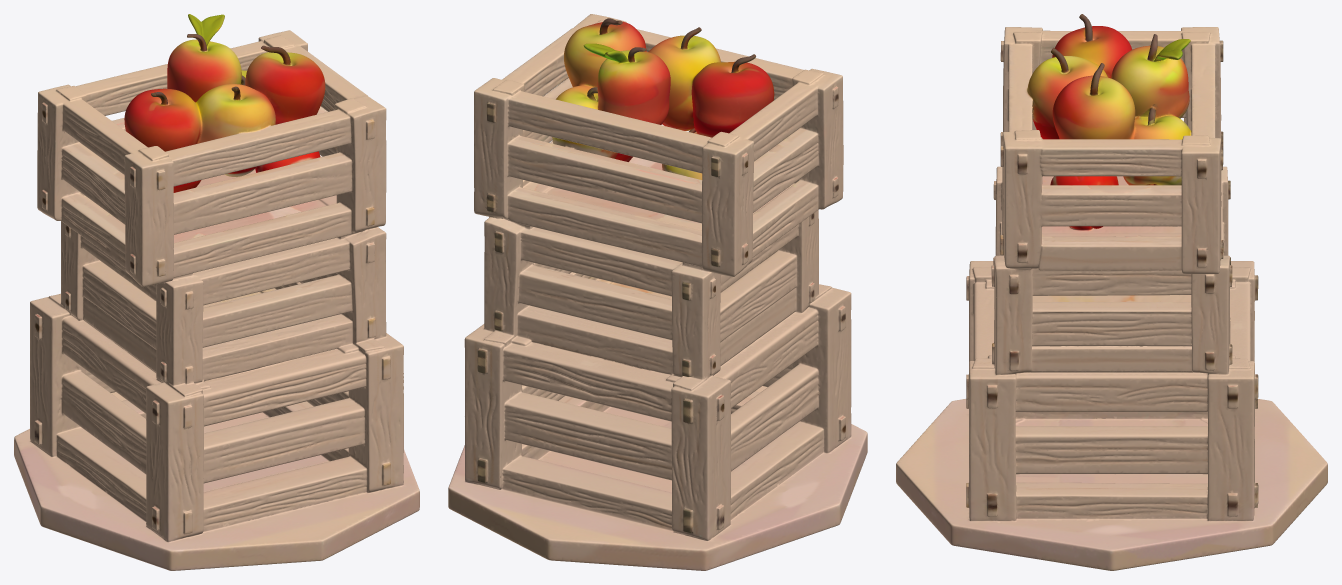
File: Model_Crates.fbx
3 views of the same model, side by side, from view 1: azimuth 30°, elevation 25°; view 2: azimuth 150°, elevation 25°; view 3: azimuth 270°, elevation 25° (orthographic). The views are drawn at different scales.
Parts seen in each view (by area): view 1: Mesh_0; view 2: Mesh_0; view 3: Mesh_0.
Part boxes in pixels (<box>): Mesh_0: <box>14,14,419,570</box>; Mesh_0: <box>448,14,867,570</box>; Mesh_0: <box>896,14,1327,570</box>.
Bounding box in the file's own units: 1.59 × 1.9 × 1.65.
1 material, 1 textured.
